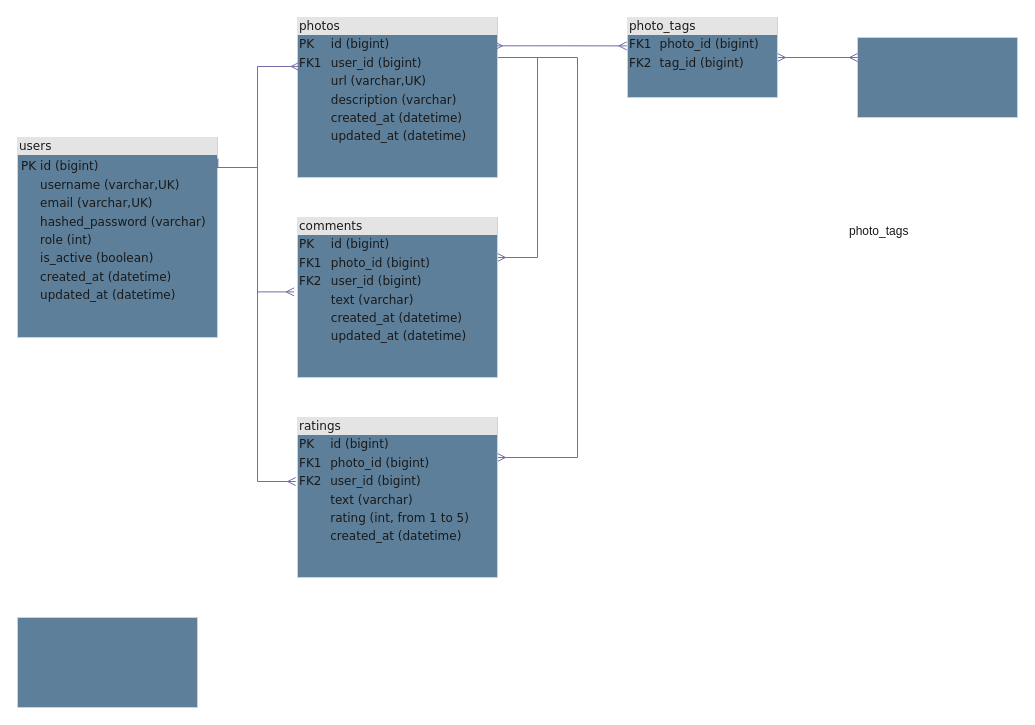
Image size: 1035x725. Some labels were removed from this diagram. Here are the shapes that lost their labels. From the top down, the centre of each, then its label:
[937,77]: tags PK id (bigint) FK1 name (varchar, UK)
[107,662]: blacklisted_tokens PK id (bigint) FK1 token (varchar, UK) created_at (datetime)
